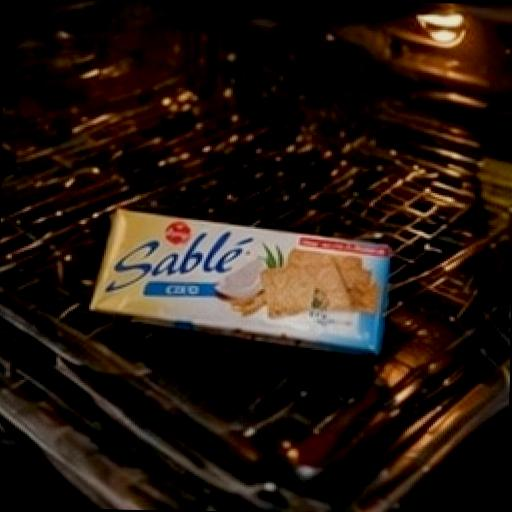sable: (44, 136, 444, 420)
